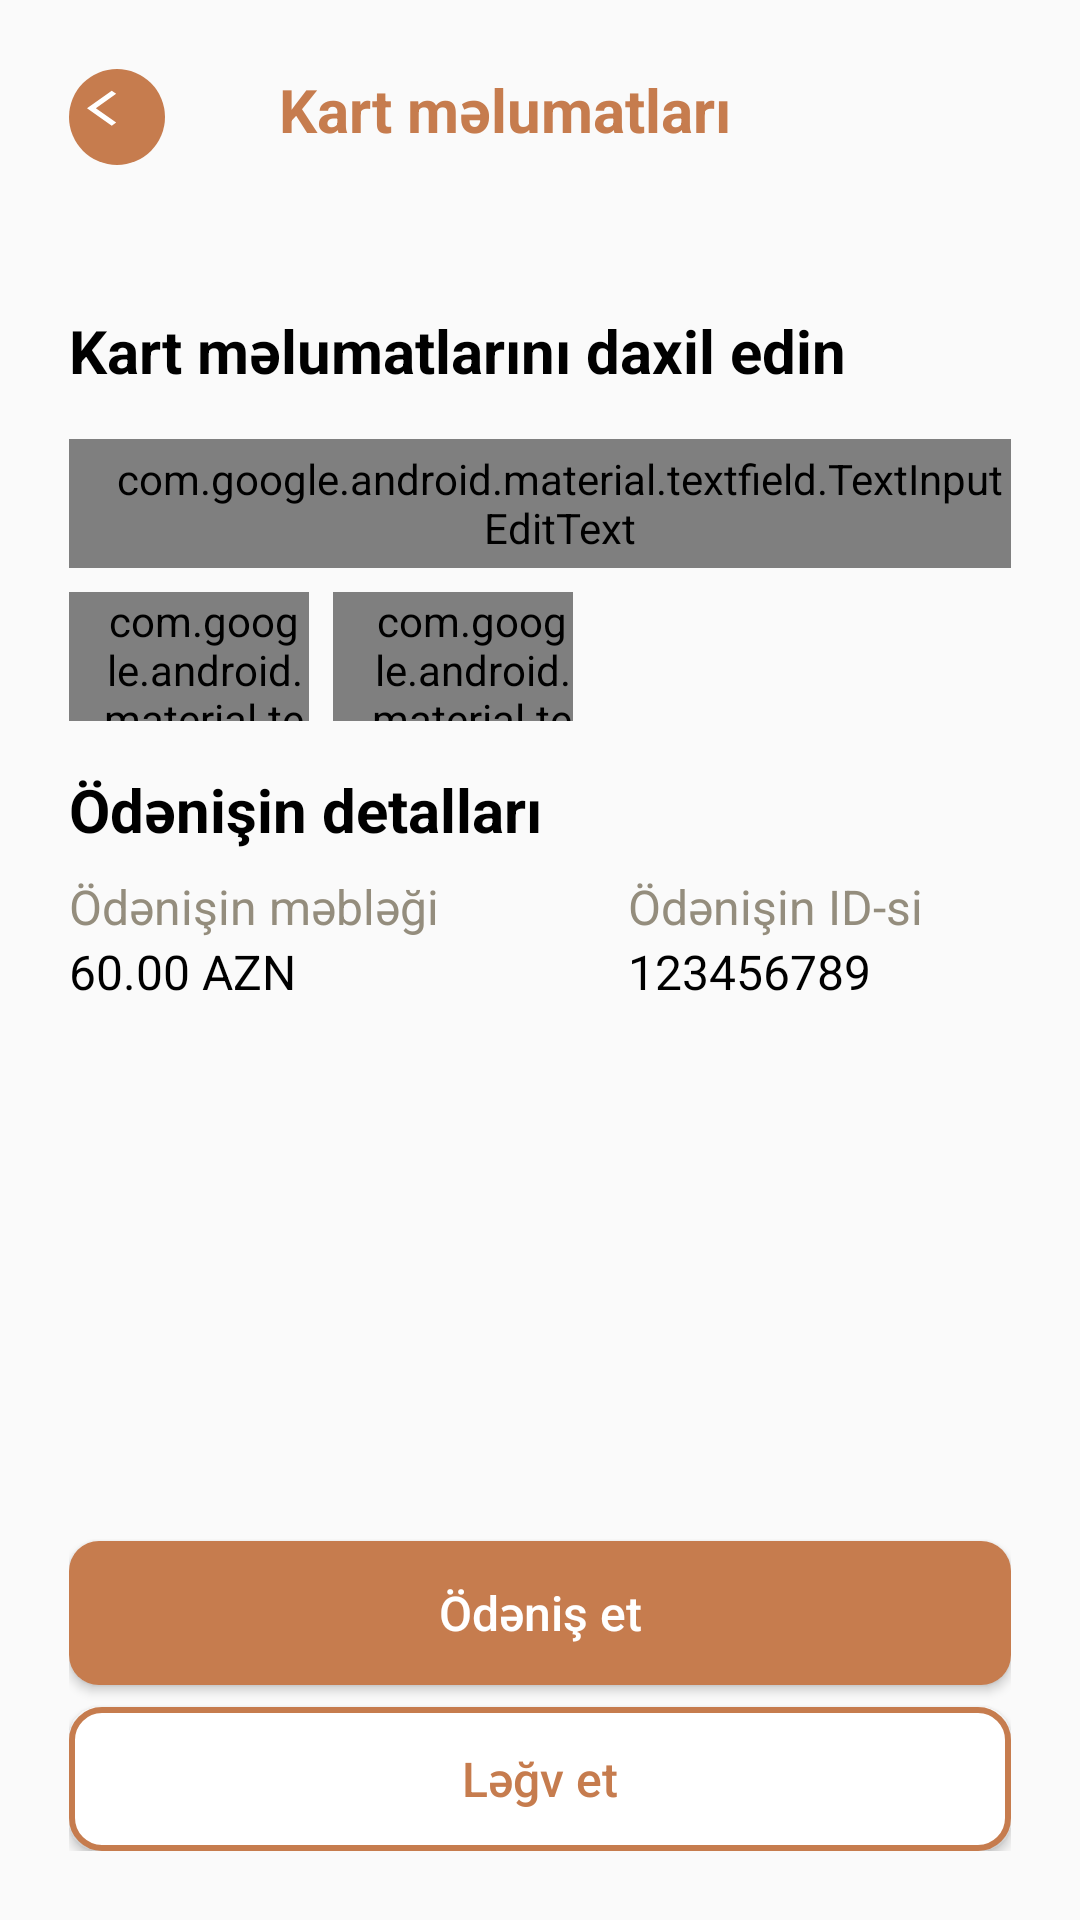

Named icons in this screenshot (1080×1920) and their bounding boxes, (x1, y1, x2, y2):
back: (69, 69, 165, 165)
